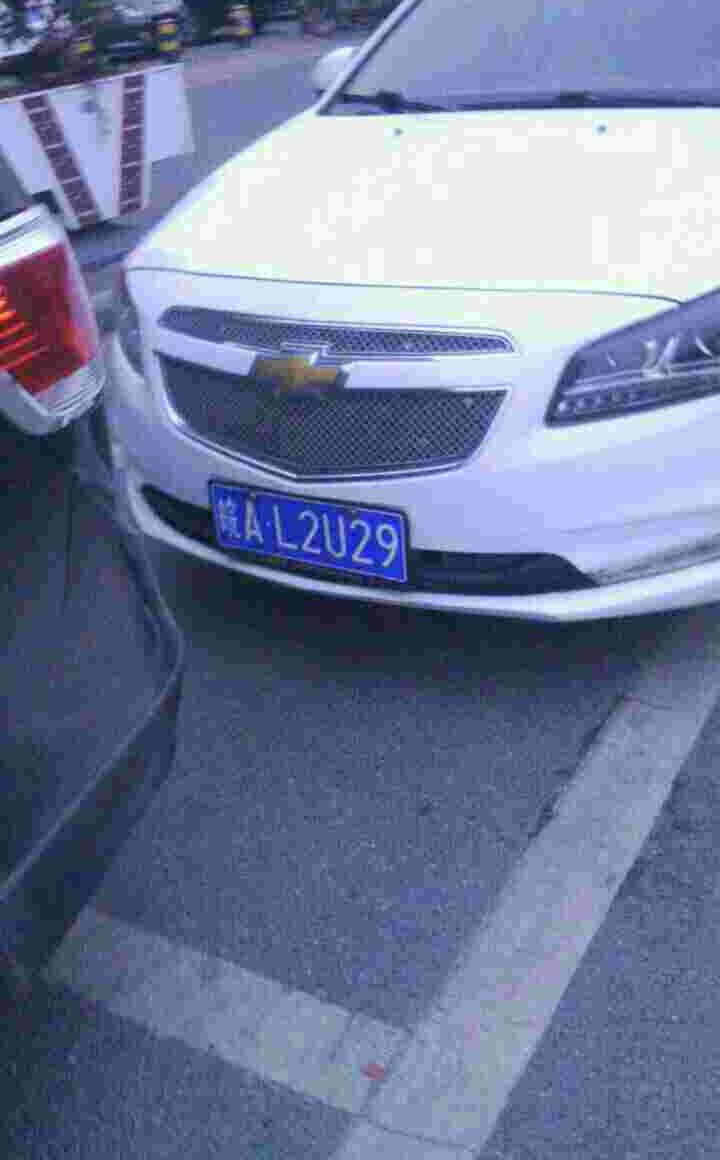plate: (207, 476, 412, 587)
